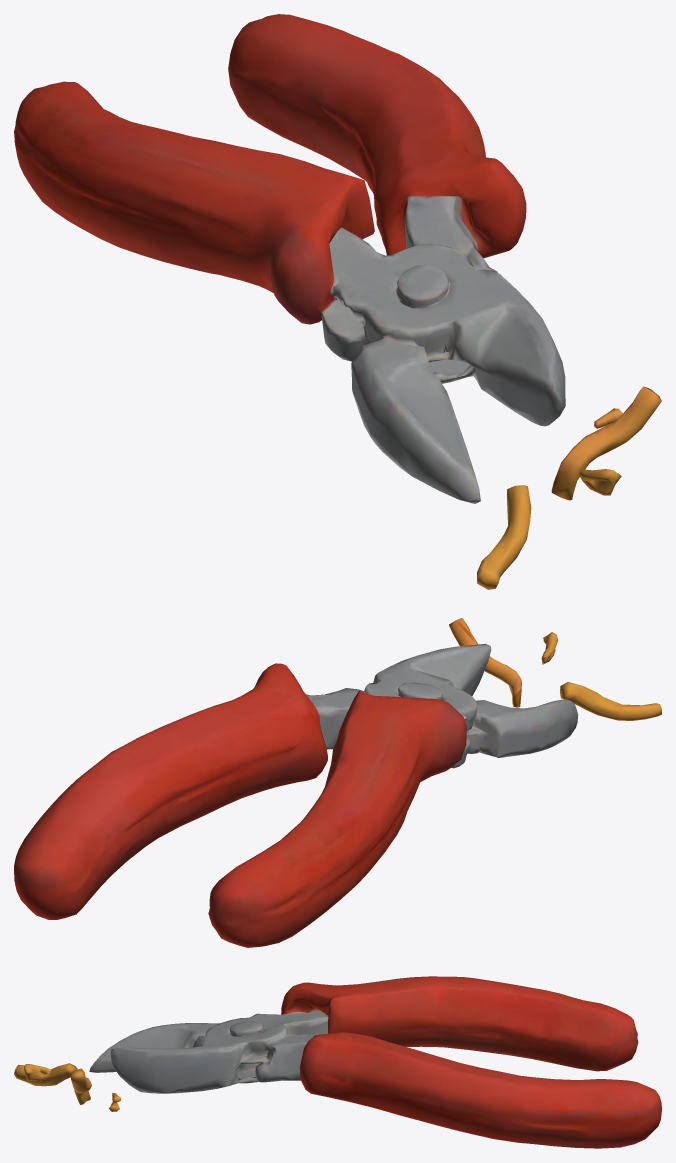
File: pliers.glb
The picture shows the model from 3 angles, top to bottom: view 1: azimuth 30°, elevation 25°; view 2: azimuth 150°, elevation 25°; view 3: azimuth 270°, elevation 25°; orthographic projection. The views are drawn at different scales.
Parts seen in each view (by area): view 1: geometry_0; view 2: geometry_0; view 3: geometry_0.
Part boxes in pixels (left/top/right/bottom): geometry_0: left=14, top=14, right=661, bottom=589; geometry_0: left=14, top=618, right=661, bottom=947; geometry_0: left=14, top=976, right=661, bottom=1148.
Bounding box in the file's own units: 0.3873 × 0.1904 × 0.9479.
1 material, 1 textured.
